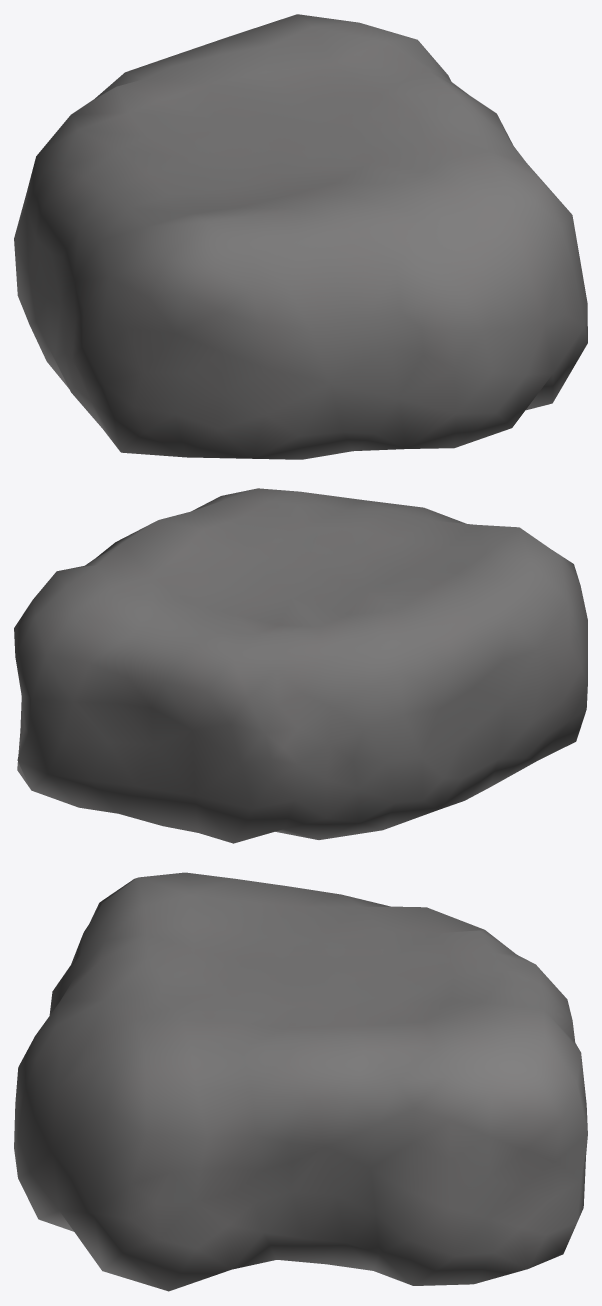
File: Rocks 1.fbx
3 views of the same model, one above another, from view 1: azimuth 30°, elevation 25°; view 2: azimuth 150°, elevation 25°; view 3: azimuth 270°, elevation 25° (orthographic). The views are drawn at different scales.
Parts seen in each view (by area): view 1: AR03; view 2: AR03; view 3: AR03.
Boxes of the visible parts, x1=… form: AR03: x1=14, y1=14, x2=587, y2=459; AR03: x1=14, y1=488, x2=587, y2=843; AR03: x1=14, y1=872, x2=587, y2=1291.
Size of the model in its own units: 157 by 74.31 by 162.
